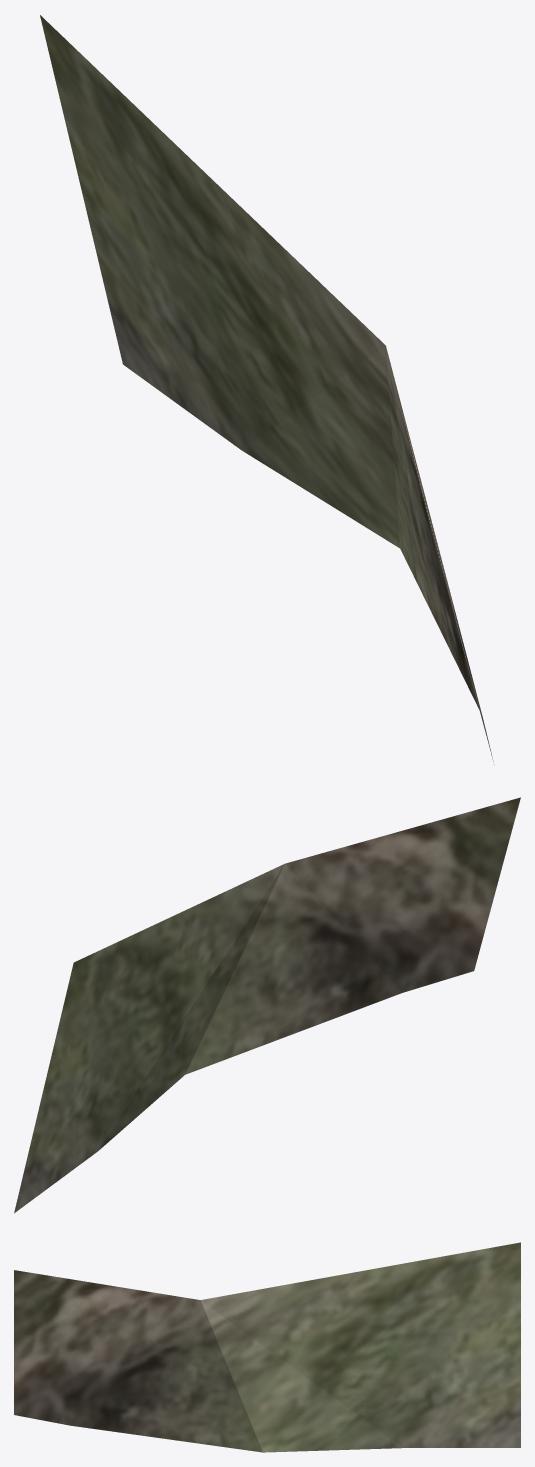
3 views of the same model, one above another, from view 1: azimuth 30°, elevation 25°; view 2: azimuth 150°, elevation 25°; view 3: azimuth 270°, elevation 25° (orthographic). The views are drawn at different scales.
Size of the model in its own units: 1.47 by 2.38 by 5.9.
Materials: 1 (1 with a texture image).
